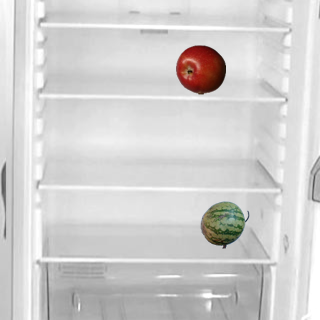Apple Braeburn: (175, 44, 225, 94)
Watermelon: (199, 199, 249, 249)
